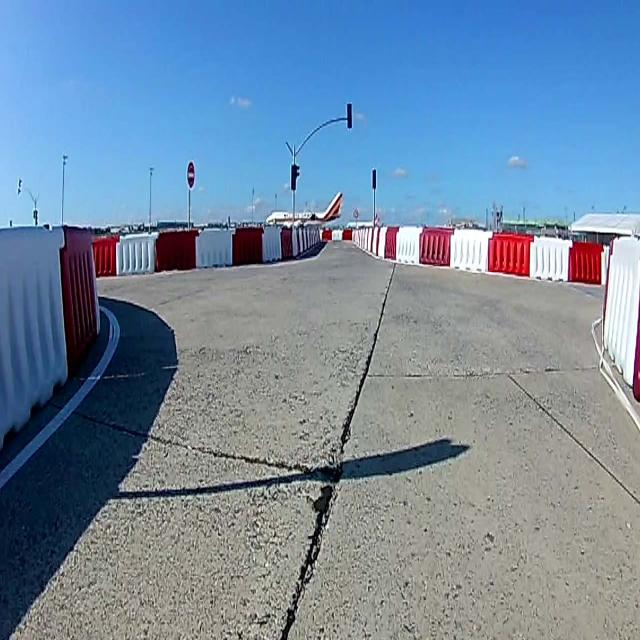girisyok: (186, 160, 197, 188)
